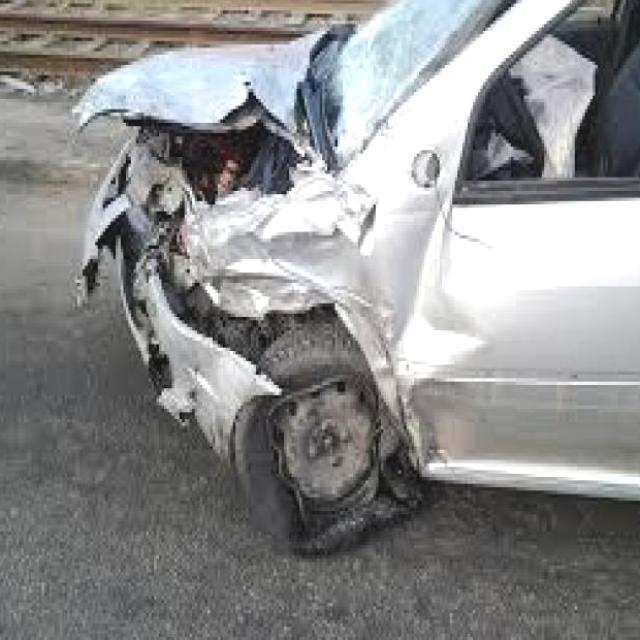accident: (48, 0, 574, 567)
